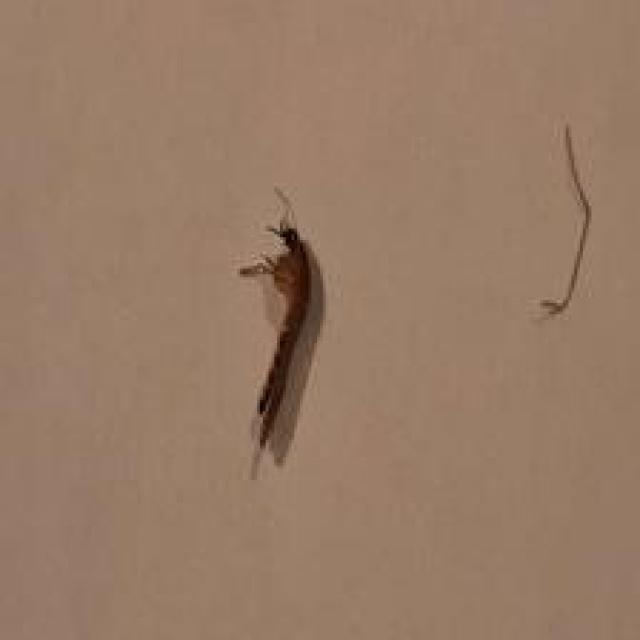Culex: (237, 184, 320, 479)
